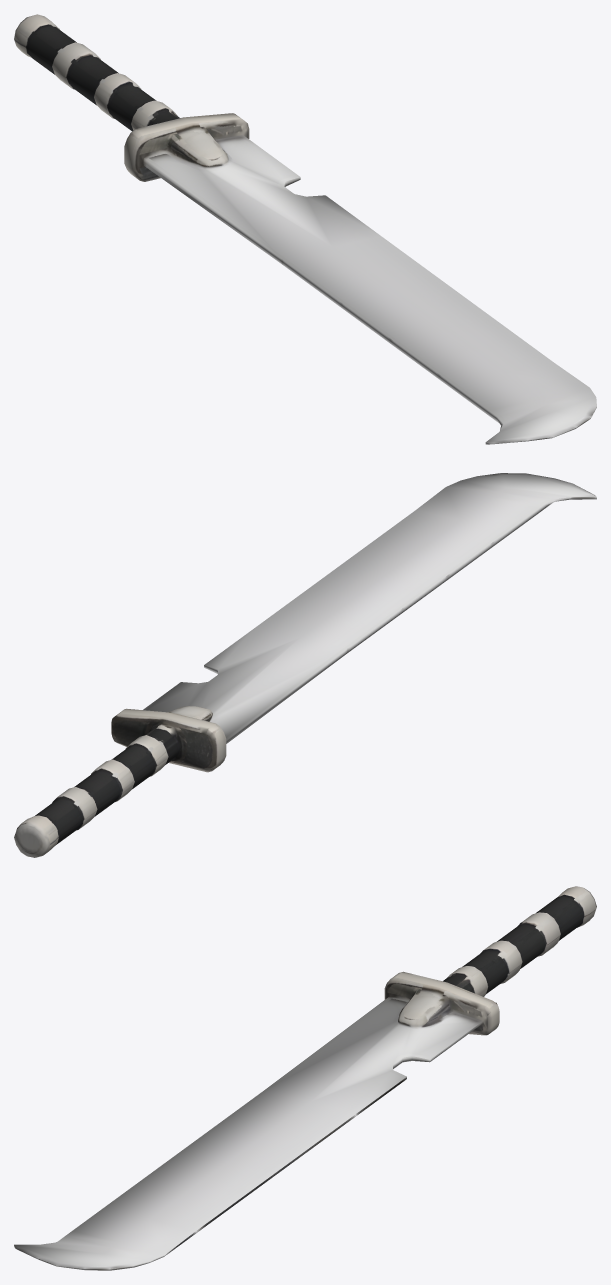
The model's file is GiantBlade.fbx.
3 renders of one model, top to bottom at view 1: azimuth 30°, elevation 25°; view 2: azimuth 150°, elevation 25°; view 3: azimuth 330°, elevation 25°, orthographic. The views are drawn at different scales.
Visible parts, largest first — view 1: mesh_rep_0_ori_repair_quad; view 2: mesh_rep_0_ori_repair_quad; view 3: mesh_rep_0_ori_repair_quad.
Boxes of the visible parts, <box> form: mesh_rep_0_ori_repair_quad: <box>14,14,596,444</box>; mesh_rep_0_ori_repair_quad: <box>14,473,596,857</box>; mesh_rep_0_ori_repair_quad: <box>14,886,596,1270</box>.
Size of the model in its own units: 17.74 by 5.6 by 120.
1 material, 1 textured.
